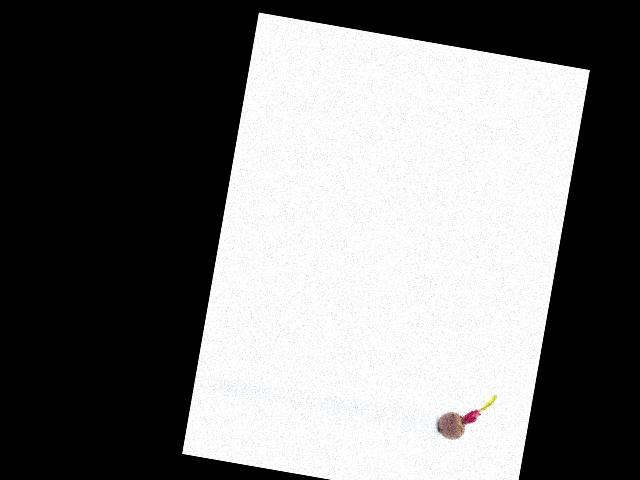beet: (435, 386, 496, 446)
